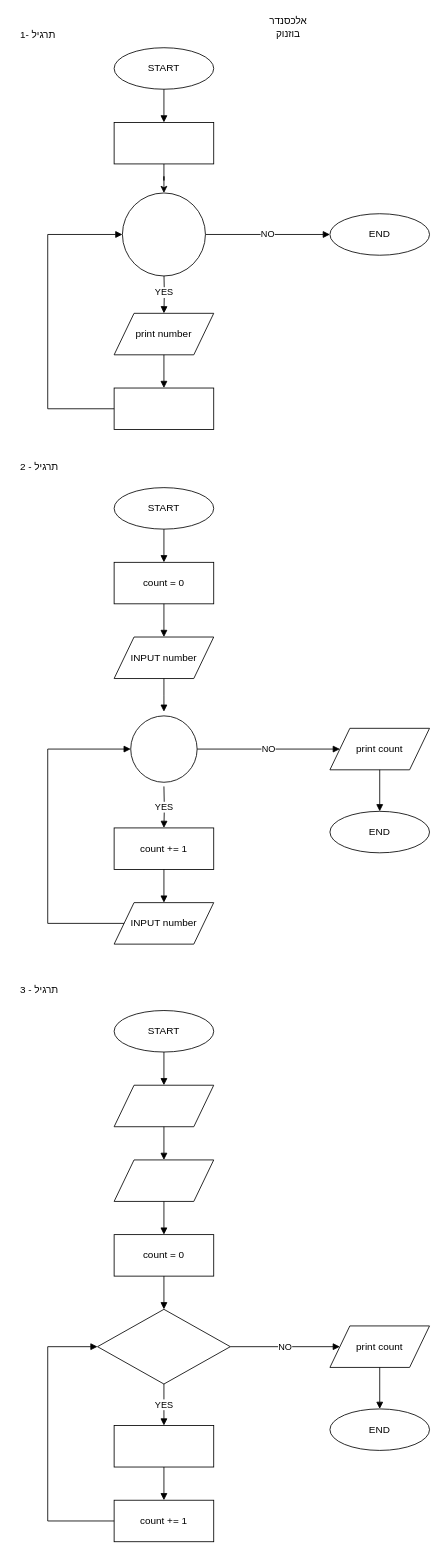
The diagram is 444 pixels wide and 1556 high, and some of its shapes have lost their labels. The centre of each missing label's shape, as x and y in pixels:
"a -= b" belongs at (x=163, y=1446).
"a > 0 ?" belongs at (x=163, y=1346).
"INPUT a" belongs at (x=163, y=1105).
"INPUT b" belongs at (x=163, y=1180).
"number != 0 ?" belongs at (x=163, y=748).
"number += 2" belongs at (x=163, y=408).
"number <= 20?" belongs at (x=163, y=234).
"number = 10" belongs at (x=163, y=143).
